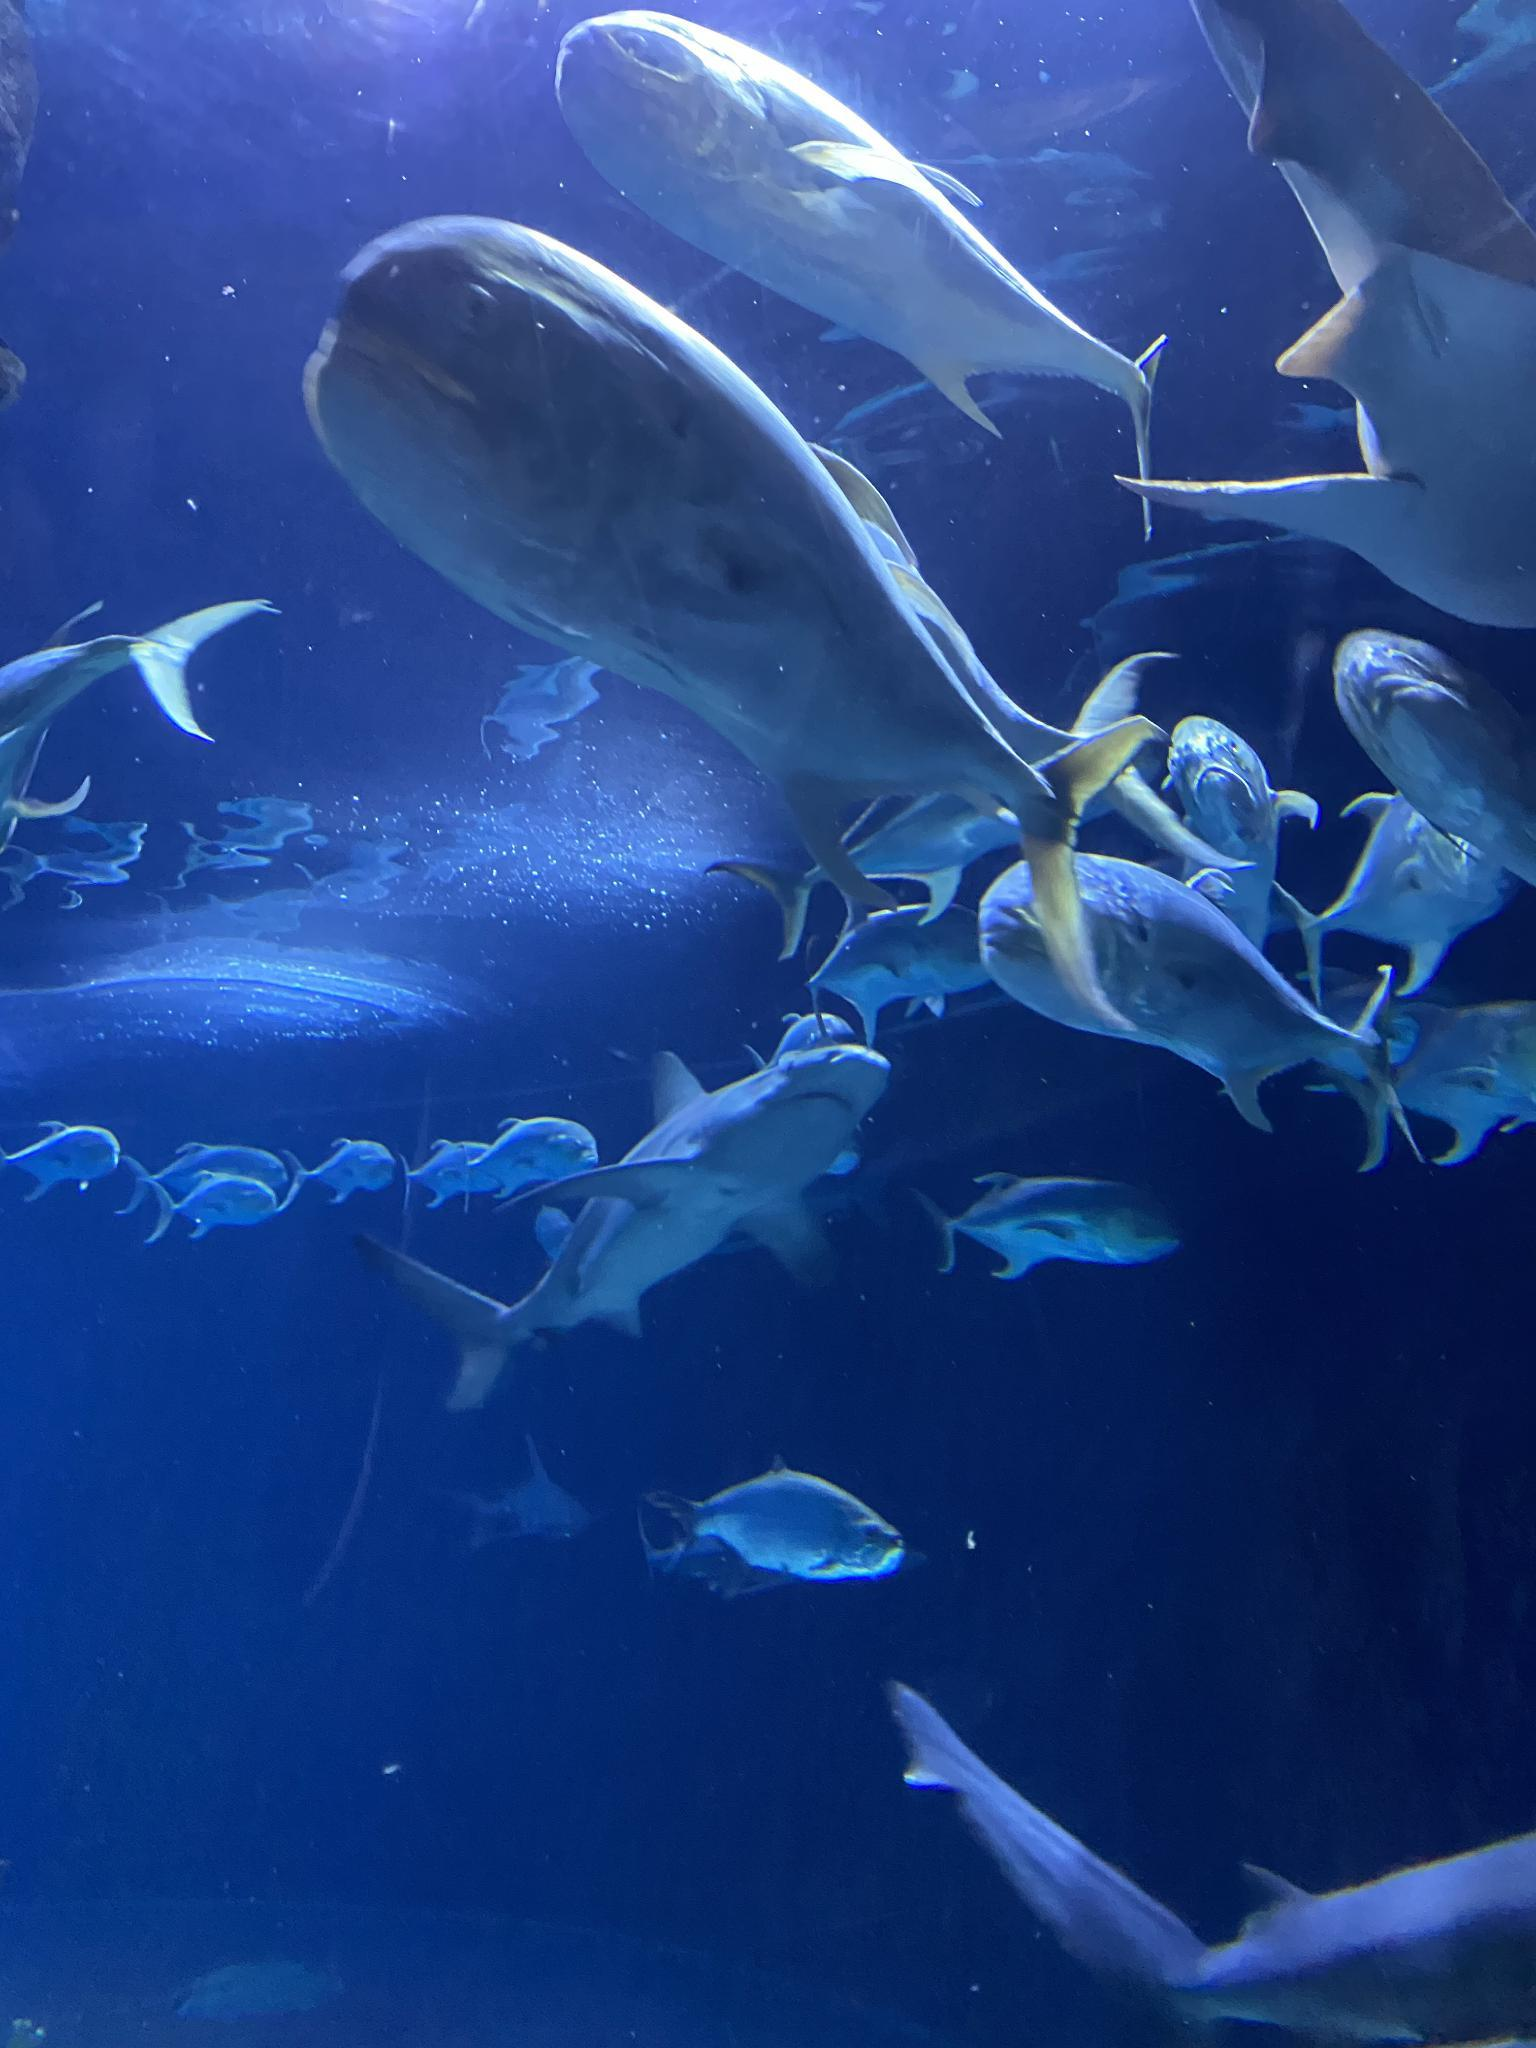fish: (310, 218, 1158, 1021), (557, 11, 1168, 539), (979, 848, 1402, 1177), (0, 595, 273, 856), (715, 777, 1058, 958), (1281, 784, 1534, 989), (1334, 626, 1536, 880), (1307, 993, 1534, 1169), (1162, 716, 1317, 943), (644, 1466, 907, 1593), (920, 1174, 1171, 1280), (807, 906, 992, 1035), (111, 1140, 298, 1237), (473, 1116, 595, 1195), (0, 1118, 119, 1198), (395, 1140, 497, 1205), (302, 1143, 394, 1201)
shark: (1108, 0, 1534, 635), (892, 1684, 1536, 2046), (349, 1042, 886, 1417), (463, 1434, 589, 1550)
